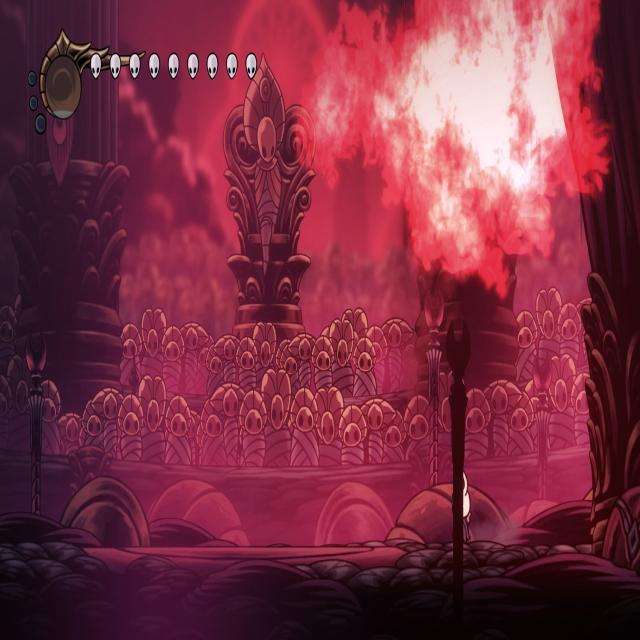Fireball: (455, 56, 515, 163), (406, 41, 462, 135), (524, 42, 576, 137)
Player: (451, 470, 474, 543)
